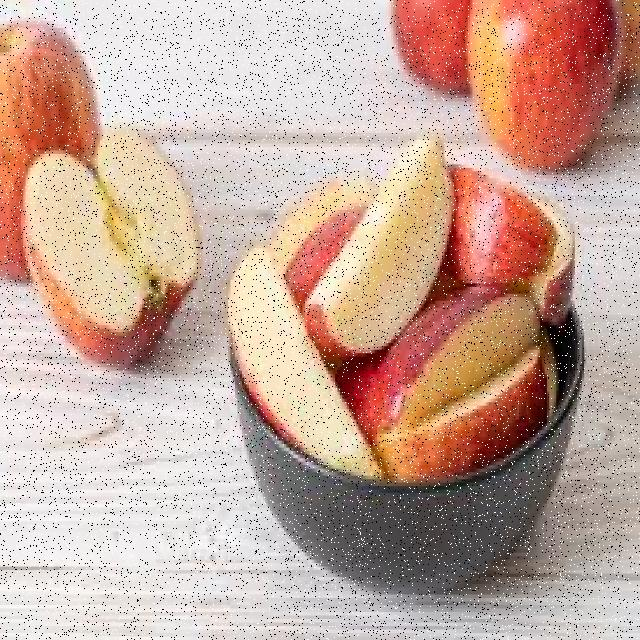Apple: (20, 128, 197, 368), (228, 253, 386, 473), (306, 136, 454, 350), (469, 0, 621, 165), (0, 29, 95, 269), (382, 346, 552, 472), (374, 287, 528, 423), (454, 166, 552, 284), (276, 193, 348, 298), (527, 188, 581, 326), (393, 1, 470, 88)
